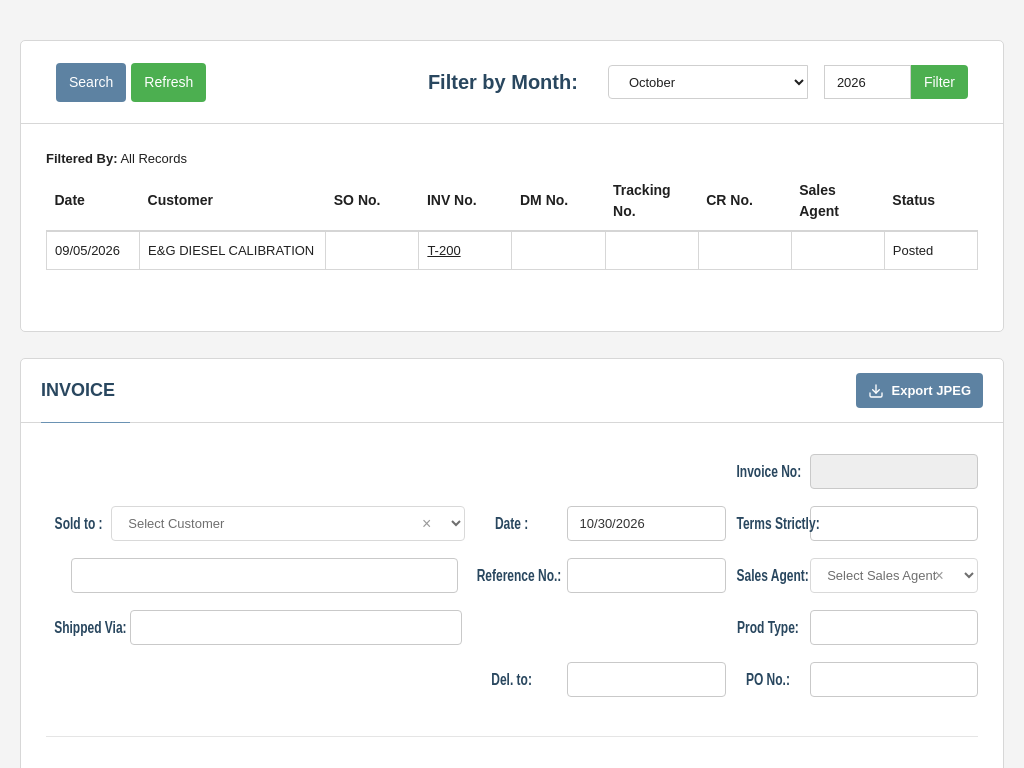
Test: InvoiceView › shows Edit Number for a sales agent granted can_edit_invoice_number
Click the text "T-200": (465,250) [419,230,512,270]
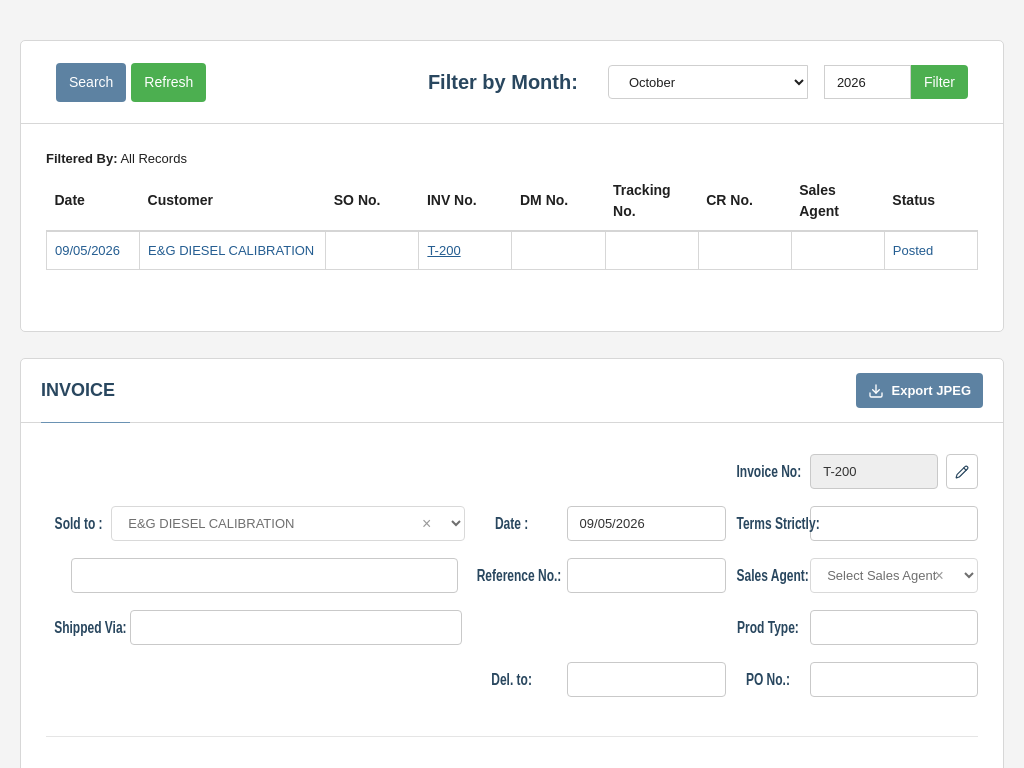
Expected: the button named "Edit Invoice Number" is shown, [946,454,978,489]
